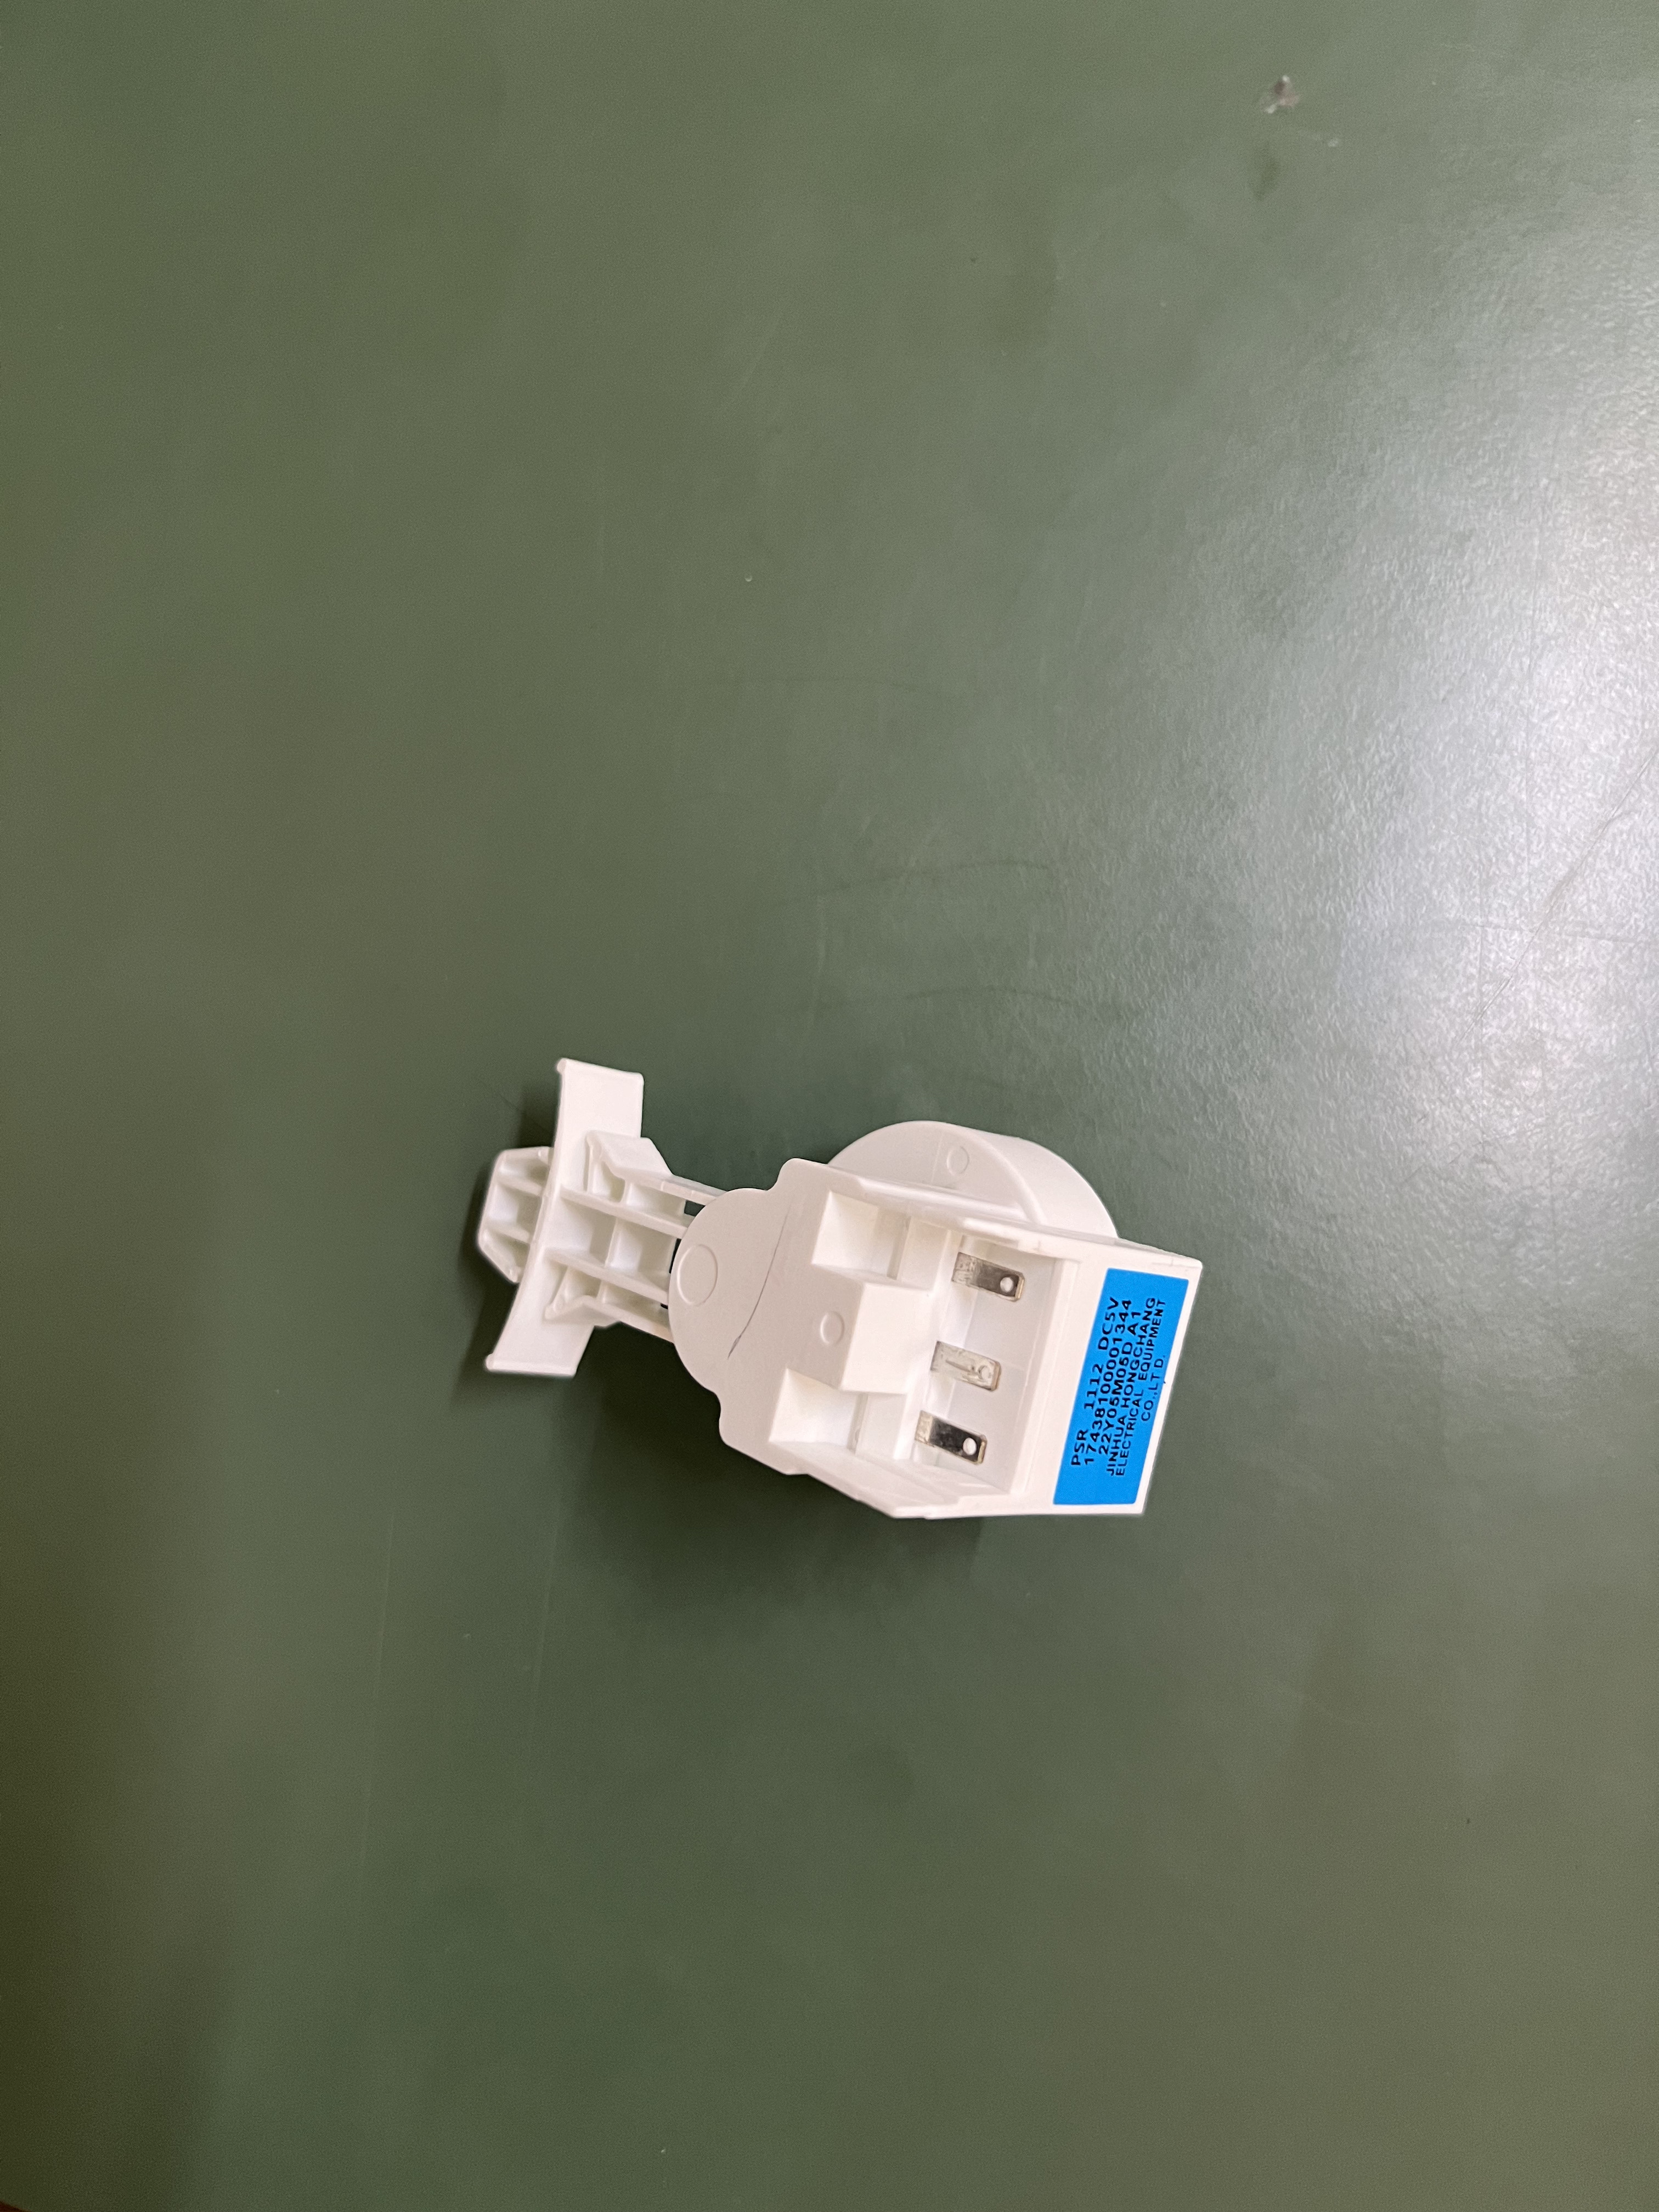pressure_switch_1: (481, 1040, 1223, 1576)
